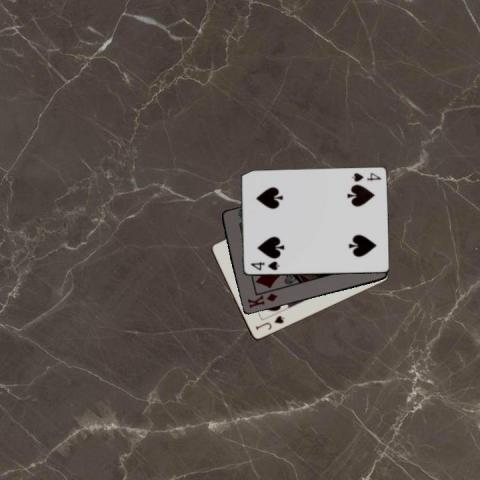4s: (349, 170, 382, 183), (248, 259, 279, 272)
Js: (252, 313, 286, 332)
Kd: (245, 290, 279, 310)
